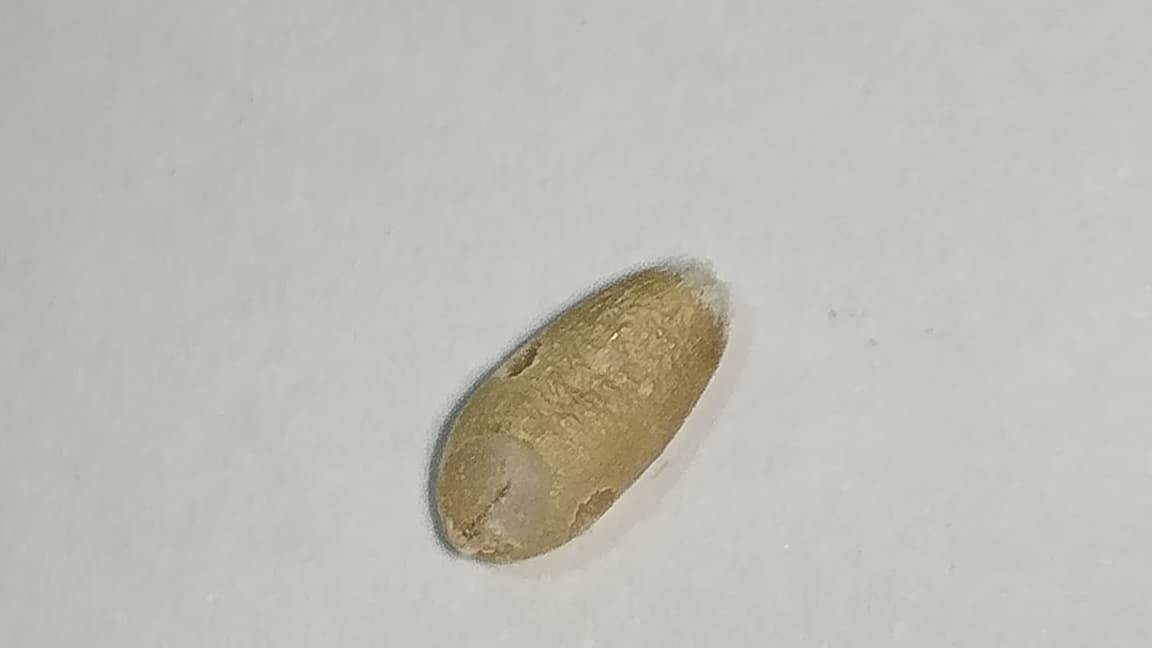damage: (436, 262, 726, 562)
insectdamage: (440, 428, 633, 555), (501, 330, 545, 379)
